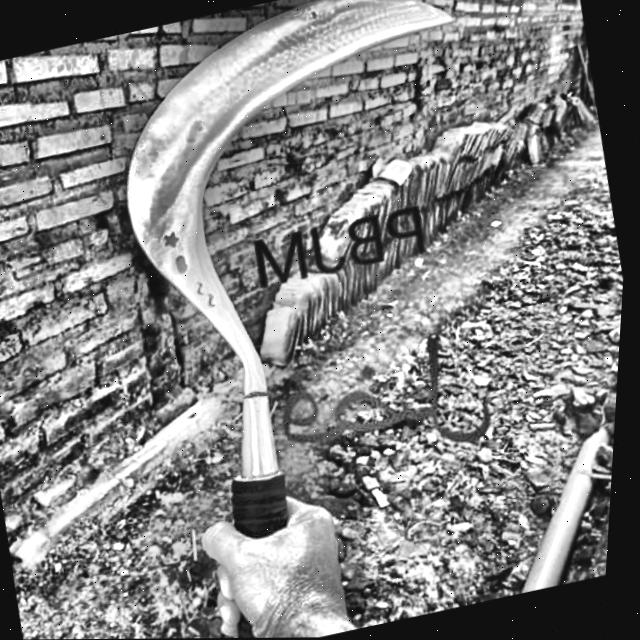celurit: (116, 0, 466, 638)
